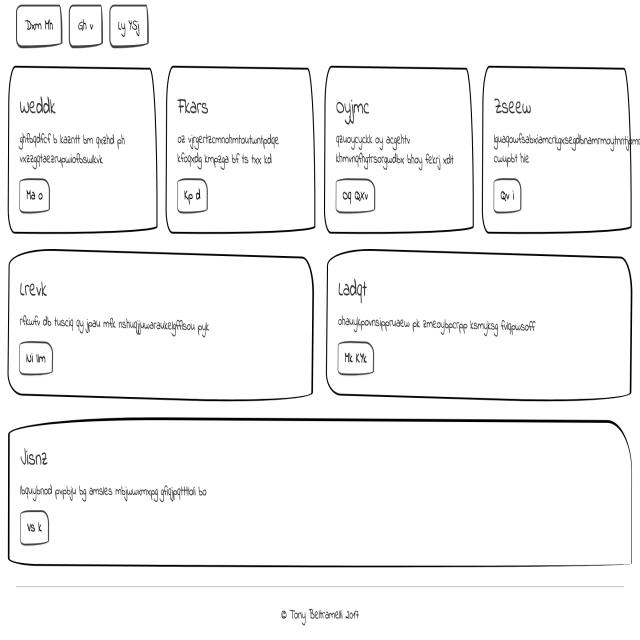Button: (335, 334, 375, 377), (332, 176, 376, 212), (20, 337, 54, 375), (176, 176, 209, 215), (20, 507, 50, 547), (18, 178, 50, 214), (492, 175, 522, 213)
Card: (7, 414, 632, 571), (9, 248, 313, 401), (326, 248, 632, 399), (7, 62, 159, 234), (320, 64, 474, 233), (163, 64, 315, 233), (483, 66, 633, 231)
Footer: (0, 579, 640, 640)
Heading 6: (496, 90, 534, 126), (337, 271, 373, 304), (175, 92, 213, 120), (336, 96, 371, 126), (21, 439, 52, 472), (17, 277, 49, 304), (17, 96, 61, 115)
Navigation Bar: (10, 0, 152, 52)
Paragraph: (336, 305, 542, 338), (493, 125, 640, 171), (18, 306, 208, 337), (335, 132, 456, 173), (17, 129, 126, 173), (177, 132, 280, 172), (15, 481, 211, 501)
